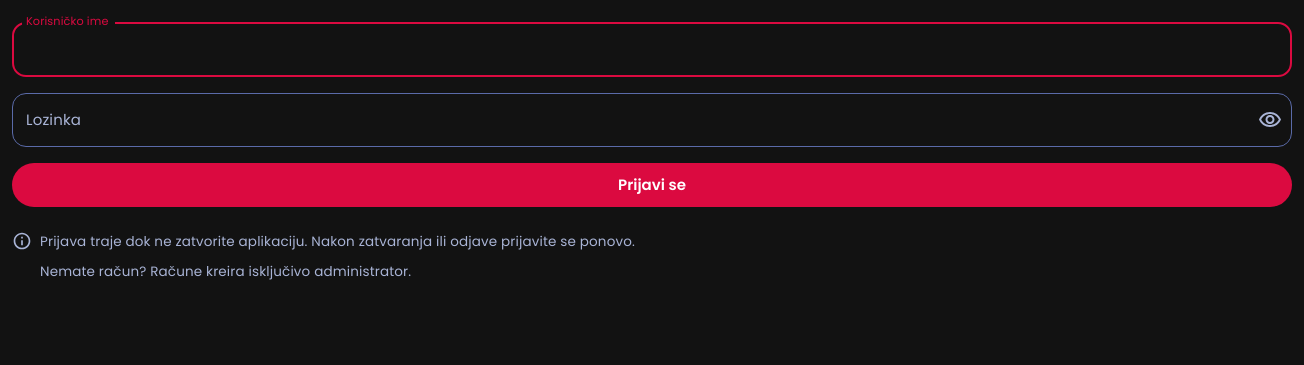
Test case: LoginForm › tells a deactivated judge why they are out
Type "sudija1" into the field labelled "Korisničko ime" at (652, 49), box [12,22,1292,77]
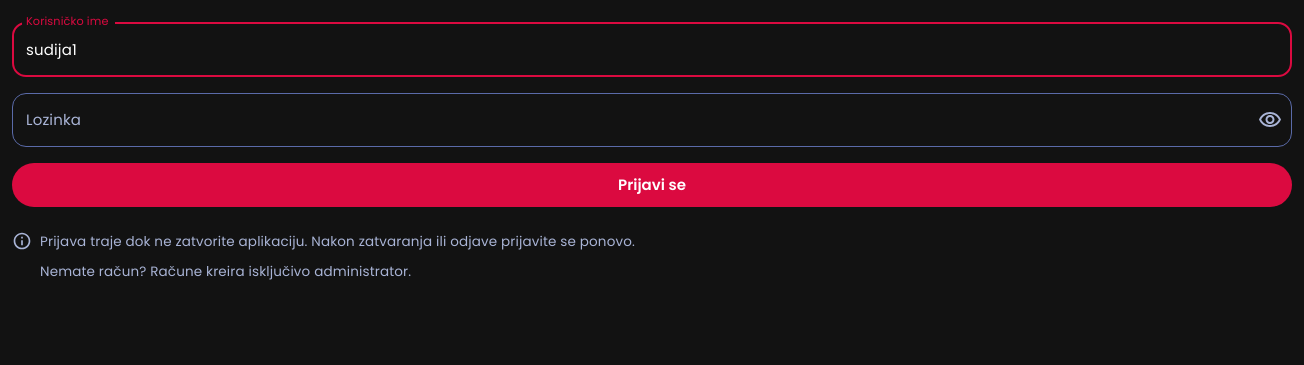
Type "Sudija2026#6" into the password field labelled "Lozinka" at (627, 120), box [12,93,1242,147]
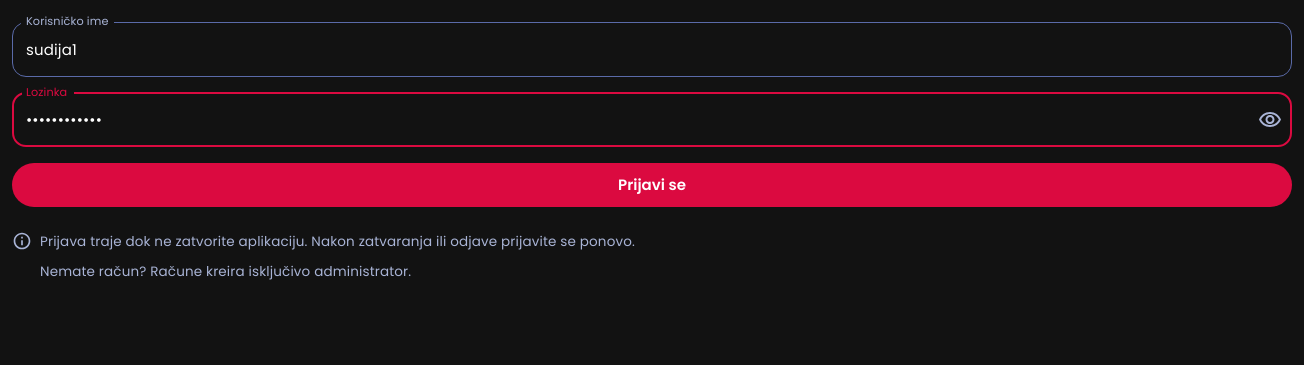
Click the button "Prijavi se" at (652, 185), box [12,163,1292,207]
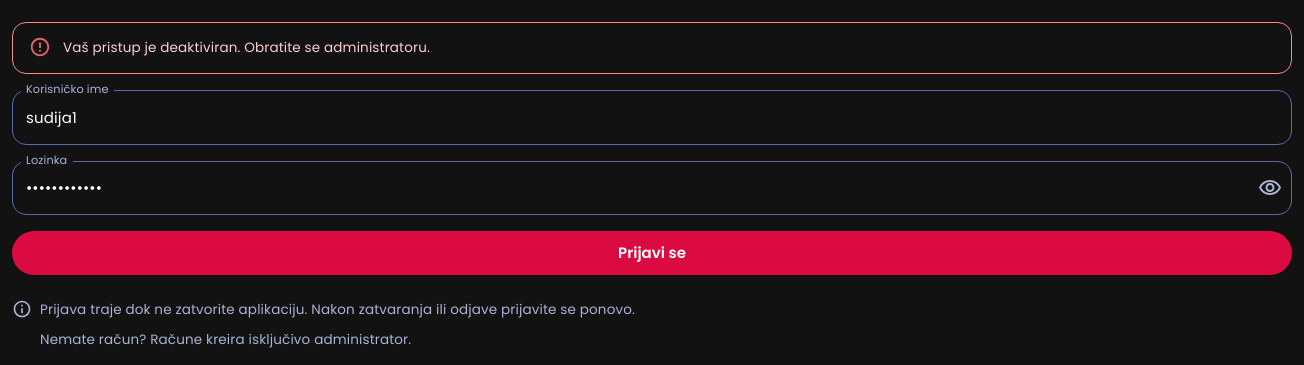
Result: the message shows "deaktiviran" at [63,38,430,57]
